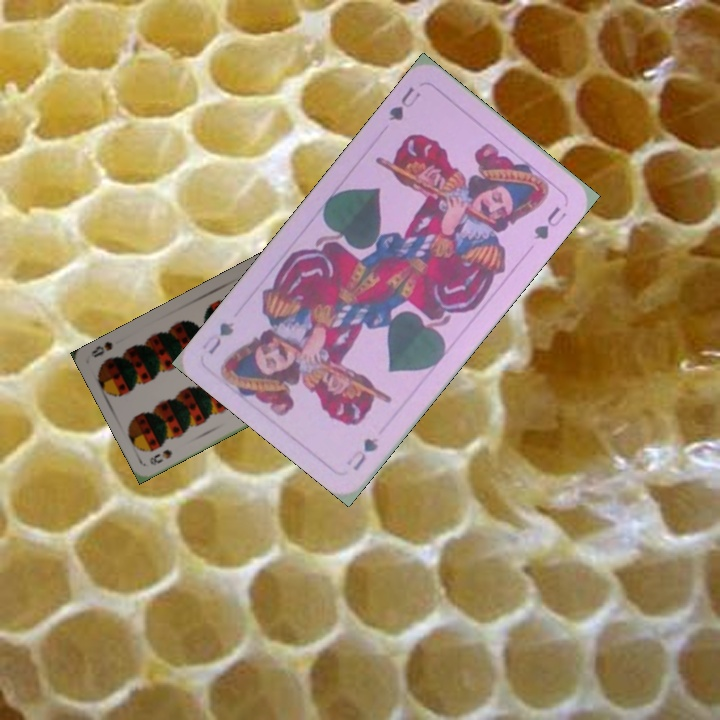GU: (384, 82, 424, 124), (342, 433, 382, 474)
S8: (145, 445, 175, 468)
